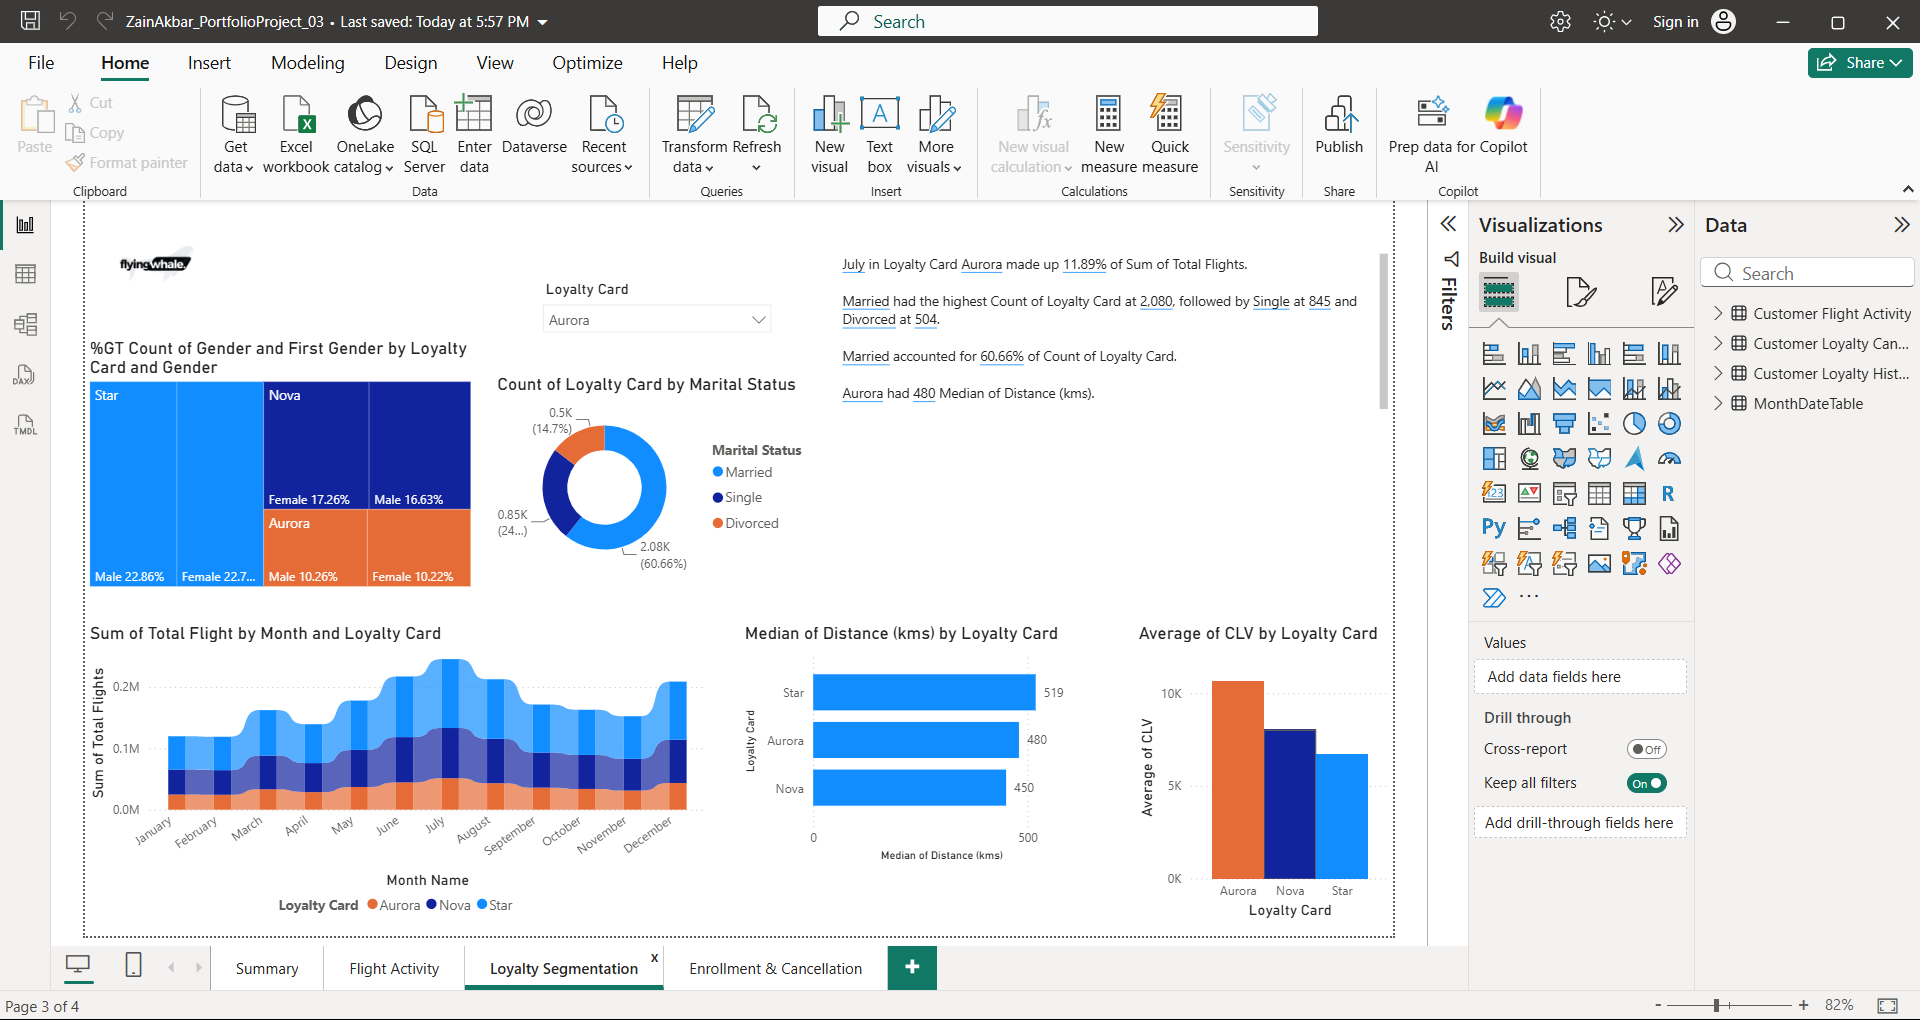

Layout of this report page (visuals, bound fields, positions):
{"tool":"powerbi","page":{"name":"Loyalty Segmentation","canvas":[1280,720],"ordinal":2},"visuals":[{"type":"ribbonChart","title":"Sum of Total Flight by Month and Loyalty Card","fields":{"Category":["MonthDateTable.Month Name"],"Series":["Customer Loyalty History.Loyalty Card"],"Y":["Sum(Customer Flight Activity.Total Flights)"]},"box":[0,413.2,612.4,294.5],"z":0},{"type":"treemap","fields":{"Details":["Customer Loyalty History.Gender"],"Group":["Customer Loyalty History.Loyalty Card"],"Values":["CountNonNull(Customer Loyalty History.Gender)"]},"box":[0,135,382.5,248.8],"z":1000},{"type":"clusteredBarChart","fields":{"Category":["Customer Loyalty History.Loyalty Card"],"Y":["Median(Customer Flight Activity.Distance)"]},"box":[640.2,413.2,338.4,238.8],"z":2000},{"type":"donutChart","fields":{"Y":["CountNonNull(Customer Loyalty History.Loyalty Card)"],"Category":["Customer Loyalty History.Marital Status"]},"box":[398.8,170,322.5,203.8],"z":3000},{"type":"clusteredColumnChart","fields":{"Y":["Avg(Customer Loyalty History.CLV)"],"Category":["Customer Loyalty History.Loyalty Card"]},"box":[1025.6,413.2,254.9,294.5],"z":4000},{"type":"slicer","fields":{"Values":["Customer Loyalty History.Loyalty Card"]},"box":[437.5,73.8,243.8,76.2],"z":5000},{"type":"textbox","box":[736.2,47.5,543.8,175],"z":5001},{"type":"image","box":[0,0,138.8,125],"z":5002}]}

Visuals, with their boxes on the page's 1280x720 design canvas (x1, y1, x2, y2). These are canvas units, not pixel positions in the 1920x1020 screenshot, which may show the page scaled, cropped or inside an application window:
"Sum of Total Flight by Month and Loyalty Card" ribbonChart: [x1=0, y1=413, x2=612, y2=708]
treemap - Customer Loyalty History.Gender x Customer Loyalty History.Loyalty Card: [x1=0, y1=135, x2=382, y2=384]
clusteredBarChart - Customer Loyalty History.Loyalty Card x Median(Customer Flight Activity.Distance): [x1=640, y1=413, x2=979, y2=652]
donutChart - CountNonNull(Customer Loyalty History.Loyalty Card) x Customer Loyalty History.Marital Status: [x1=399, y1=170, x2=721, y2=374]
clusteredColumnChart - Avg(Customer Loyalty History.CLV) x Customer Loyalty History.Loyalty Card: [x1=1026, y1=413, x2=1280, y2=708]
slicer - Customer Loyalty History.Loyalty Card: [x1=438, y1=74, x2=681, y2=150]
textbox: [x1=736, y1=48, x2=1280, y2=222]
image: [x1=0, y1=0, x2=139, y2=125]
